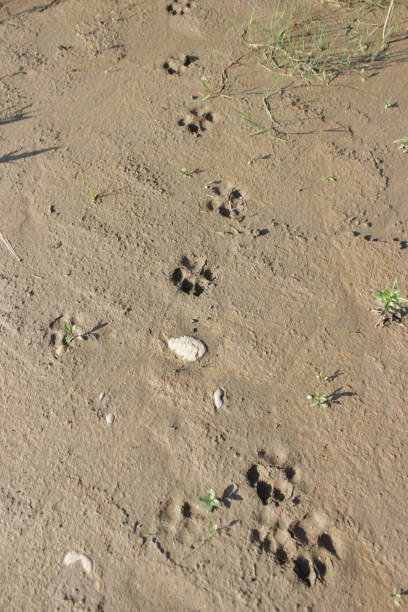animal_foot_print: (246, 452, 341, 586), (139, 497, 202, 562), (48, 314, 106, 357), (171, 256, 214, 296), (206, 181, 245, 221), (178, 108, 214, 136), (162, 54, 197, 74), (166, 0, 193, 15)
